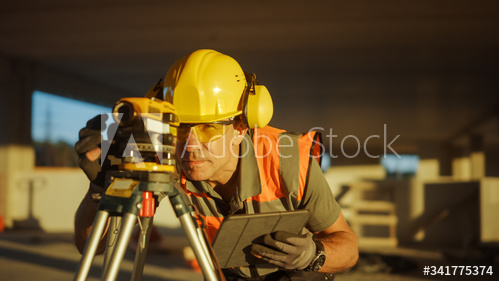hard hat: (150, 48, 249, 122)
